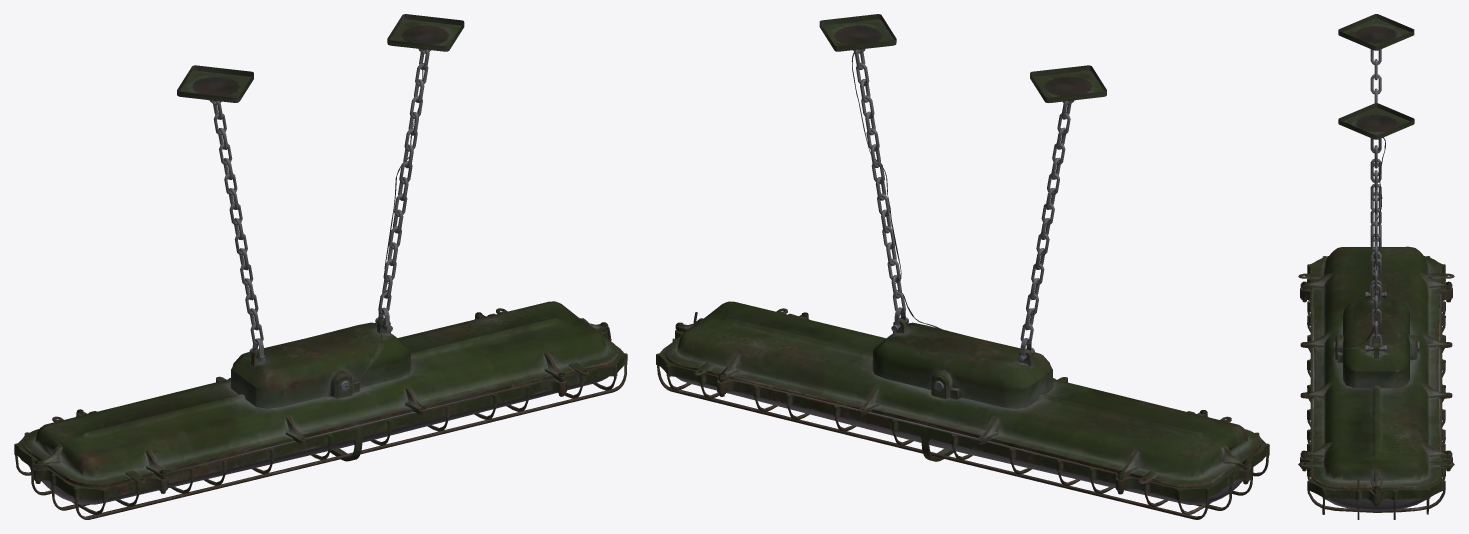
File: caged_hanging_light_512.glb
3 renders of one model, left to right at view 1: azimuth 30°, elevation 25°; view 2: azimuth 150°, elevation 25°; view 3: azimuth 270°, elevation 25°, orthographic. The views are drawn at different scales.
Parts seen in each view (by area): view 1: caged_hanging_light; view 2: caged_hanging_light; view 3: caged_hanging_light.
Boxes of the visible parts, x1,y1,x2,y2 form: caged_hanging_light: (14, 14, 627, 519); caged_hanging_light: (656, 14, 1269, 519); caged_hanging_light: (1298, 14, 1454, 519).
Bounding box in the file's own units: 1.16 × 0.7501 × 0.3149.
Materials: 1 (1 with a texture image).
